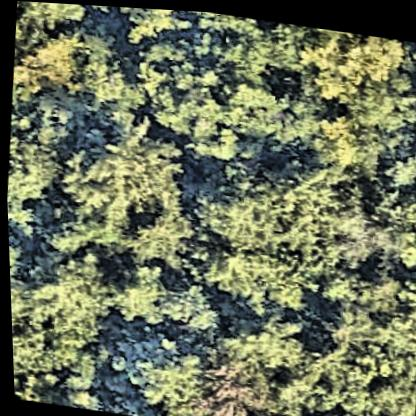tree-top: (184, 143, 336, 320), (134, 6, 274, 154), (63, 105, 183, 225), (23, 239, 119, 368), (296, 22, 406, 125), (3, 105, 71, 221), (322, 186, 407, 275), (9, 15, 93, 103), (115, 328, 195, 416), (301, 99, 384, 179), (298, 345, 380, 416), (222, 304, 306, 369), (152, 274, 229, 342), (181, 349, 259, 416), (8, 272, 59, 374), (308, 297, 386, 360), (126, 204, 196, 272), (50, 197, 130, 254), (324, 256, 403, 312), (106, 253, 162, 327), (356, 358, 416, 416), (19, 1, 96, 33), (378, 140, 416, 192), (291, 403, 377, 416)
